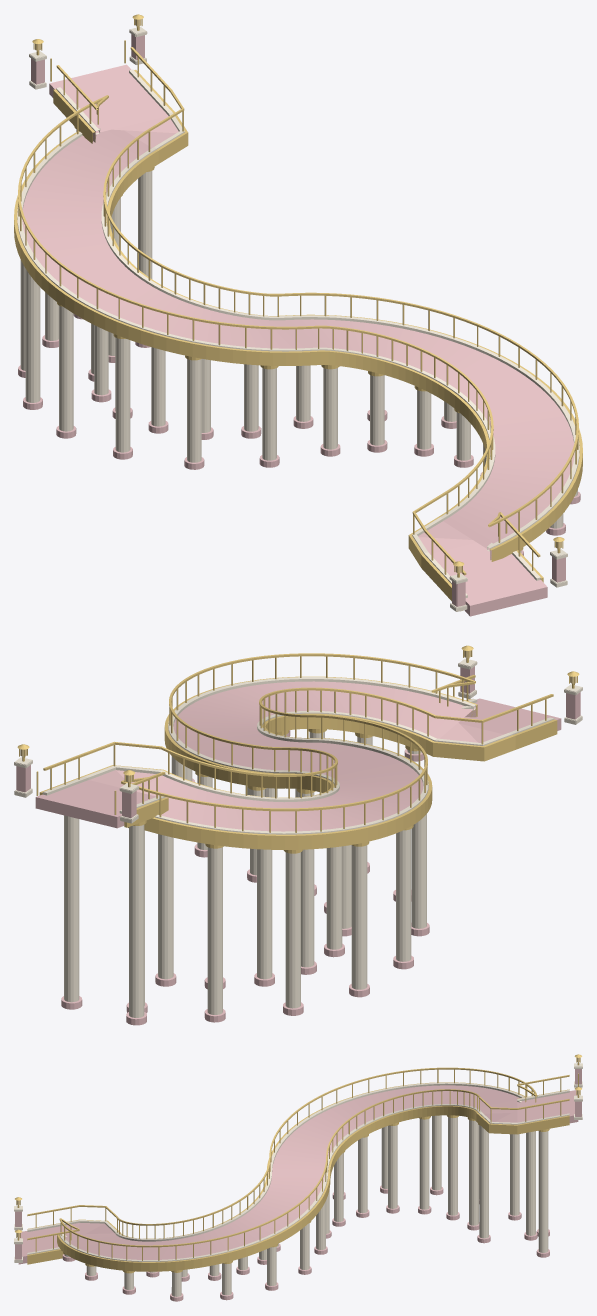
File: HOB_SpiralRamp_9m.fbx
3 views of the same model, one above another, from view 1: azimuth 30°, elevation 25°; view 2: azimuth 150°, elevation 25°; view 3: azimuth 270°, elevation 25° (orthographic). The views are drawn at different scales.
Parts seen in each view (by area): view 1: HOB_SpiralRamp_9m; view 2: HOB_SpiralRamp_9m; view 3: HOB_SpiralRamp_9m.
Part boxes in pixels (x1,y1,x2,y2): HOB_SpiralRamp_9m: (14,14,582,616); HOB_SpiralRamp_9m: (14,645,582,1025); HOB_SpiralRamp_9m: (14,1054,582,1301).
Size of the model in its own units: 1564 by 1142 by 3252.
